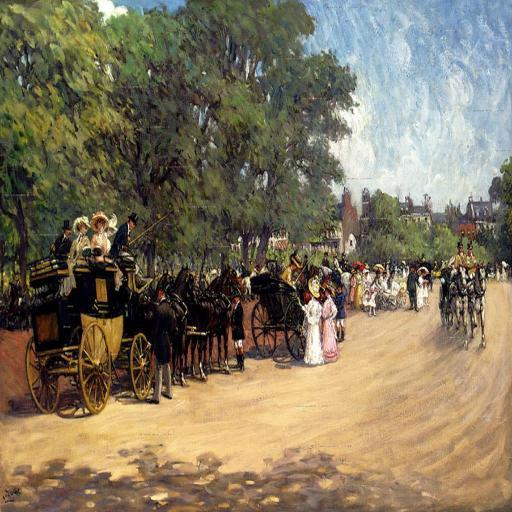horse: (139, 262, 199, 387), (191, 262, 248, 373), (130, 267, 176, 381), (446, 258, 470, 348), (465, 258, 486, 346)
